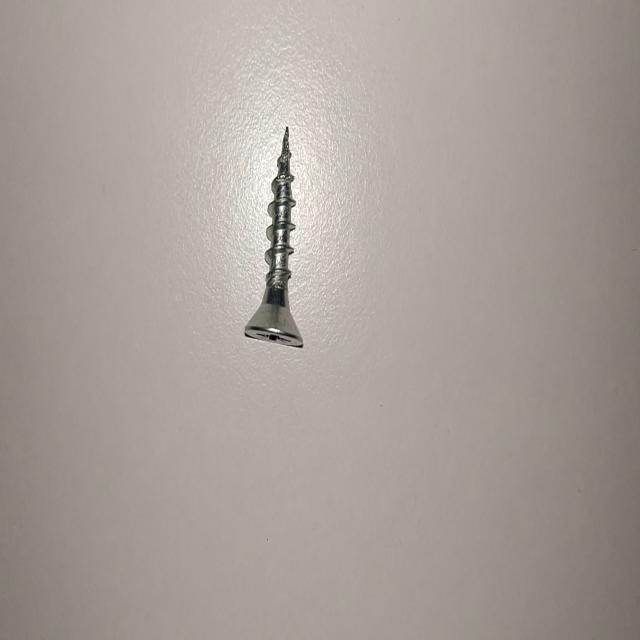Dry Waste: (235, 92, 355, 378)
